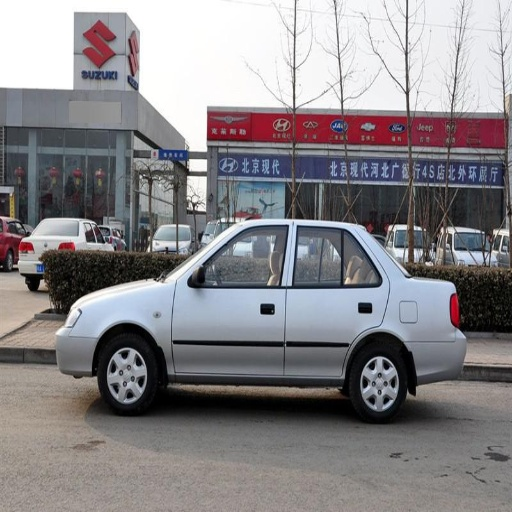back_left_door: (284, 223, 389, 382)
front_left_door: (172, 225, 292, 381)
